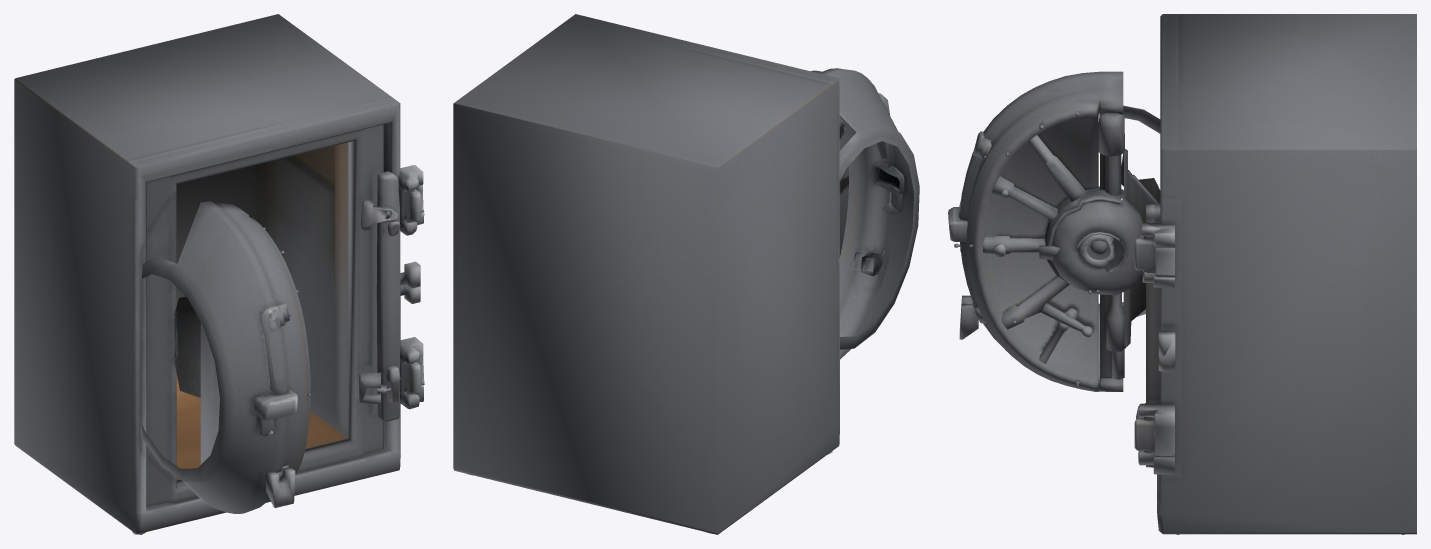
The model's file is Hub_WardrobeSafe.glb.
3 renders of one model, left to right at view 1: azimuth 30°, elevation 25°; view 2: azimuth 150°, elevation 25°; view 3: azimuth 270°, elevation 25°, orthographic. The views are drawn at different scales.
Parts seen in each view (by area): view 1: tripo_node_1569a255-4ca6-4c50-a8a8-a3abde9259ec; view 2: tripo_node_1569a255-4ca6-4c50-a8a8-a3abde9259ec; view 3: tripo_node_1569a255-4ca6-4c50-a8a8-a3abde9259ec.
Part boxes in pixels (x1=…): tripo_node_1569a255-4ca6-4c50-a8a8-a3abde9259ec: x1=14, y1=14, x2=424, y2=534; tripo_node_1569a255-4ca6-4c50-a8a8-a3abde9259ec: x1=453, y1=14, x2=919, y2=534; tripo_node_1569a255-4ca6-4c50-a8a8-a3abde9259ec: x1=948, y1=14, x2=1416, y2=534.
Bounding box in the file's own units: 0.7391 × 0.916 × 1.
Materials: 1 (1 with a texture image).
